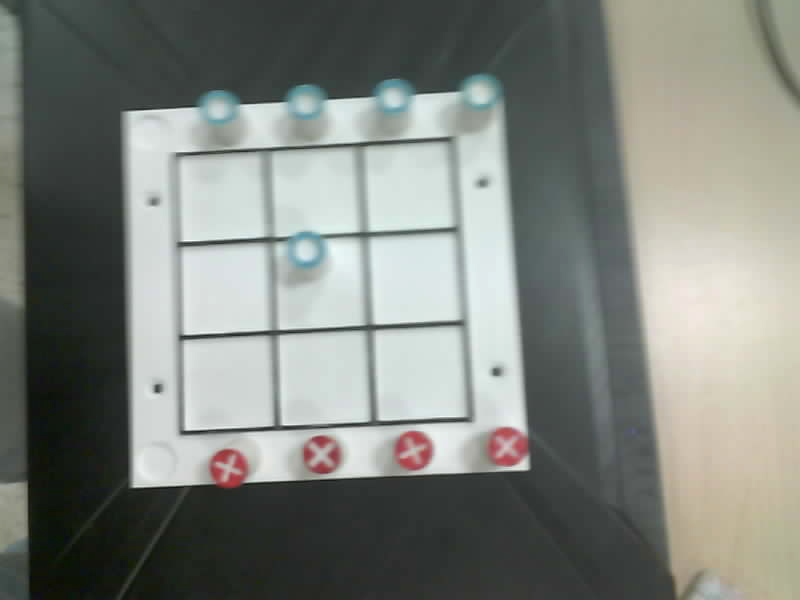blue circle: (460, 73, 502, 109), (373, 78, 414, 114), (287, 231, 326, 268), (286, 84, 326, 119), (198, 90, 239, 124)
board: (123, 75, 527, 486)
cells: (279, 331, 370, 426), (375, 327, 467, 420), (182, 336, 273, 429), (369, 233, 461, 323), (181, 243, 269, 334), (365, 141, 453, 230), (278, 238, 364, 329), (271, 147, 359, 235), (178, 152, 265, 240)
grid: (173, 138, 473, 433)
red cross: (487, 427, 527, 465), (394, 431, 432, 470), (209, 449, 248, 487), (303, 435, 341, 473)
